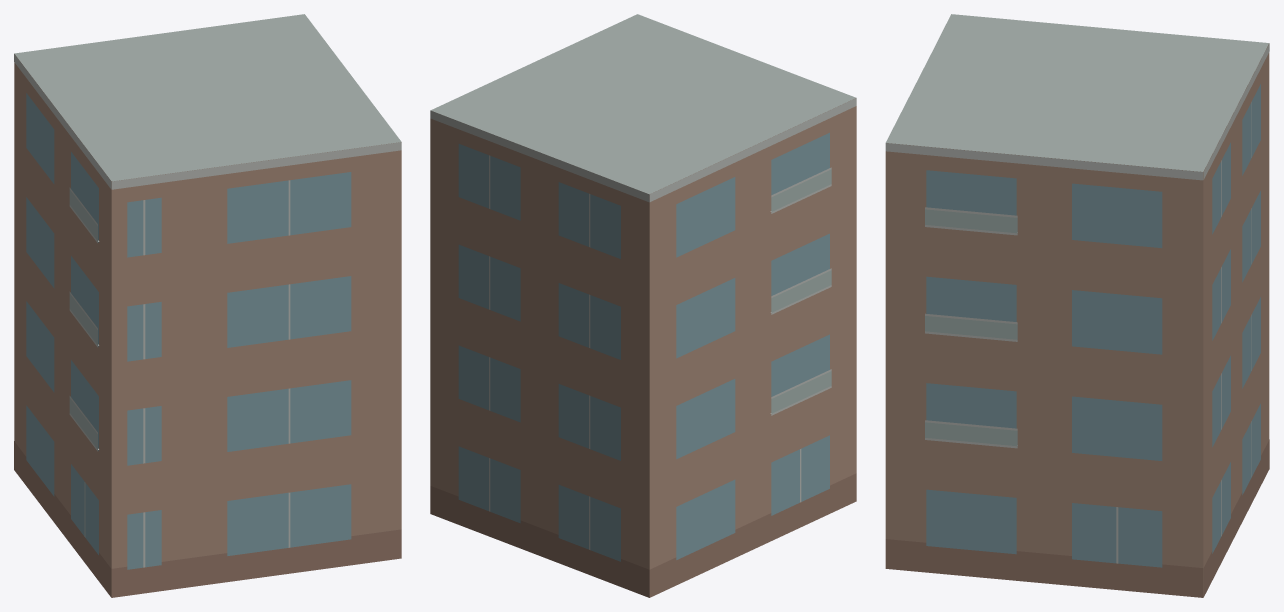
The model's file is residential-10aa87be-aff2-4615-8644-02b821ef796a.glb.
3 renders of one model, left to right at view 1: azimuth 30°, elevation 25°; view 2: azimuth 150°, elevation 25°; view 3: azimuth 270°, elevation 25°, orthographic. The views are drawn at different scales.
Visible parts, largest first — view 1: residential-10aa87be-aff2-4615-8644-02b821ef796a.tmp; view 2: residential-10aa87be-aff2-4615-8644-02b821ef796a.tmp; view 3: residential-10aa87be-aff2-4615-8644-02b821ef796a.tmp.
Boxes of the visible parts, x1,y1,x2,y2 form: residential-10aa87be-aff2-4615-8644-02b821ef796a.tmp: (14, 14, 401, 597); residential-10aa87be-aff2-4615-8644-02b821ef796a.tmp: (430, 14, 856, 597); residential-10aa87be-aff2-4615-8644-02b821ef796a.tmp: (885, 14, 1269, 597).
Size of the model in its own units: 9.71 by 12.2 by 9.97.
